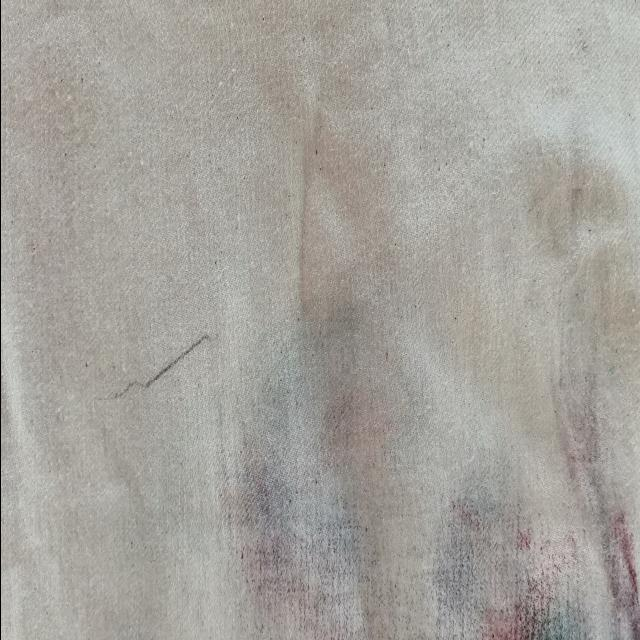taaaches: (224, 213, 640, 639), (105, 317, 216, 420)
